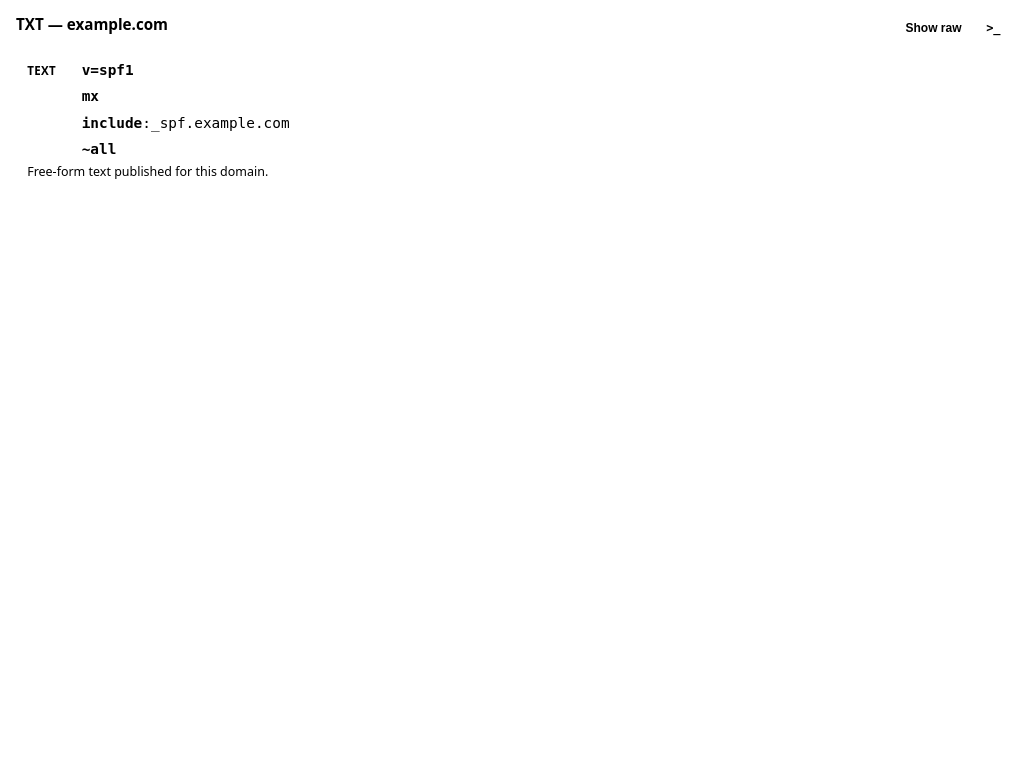
Scenario: RecordResultCard › opens SPF mechanism help when a mechanism label is clicked
Click the button with aria-label "Explain ~all" at point(99, 150), box [82,139,116,160]
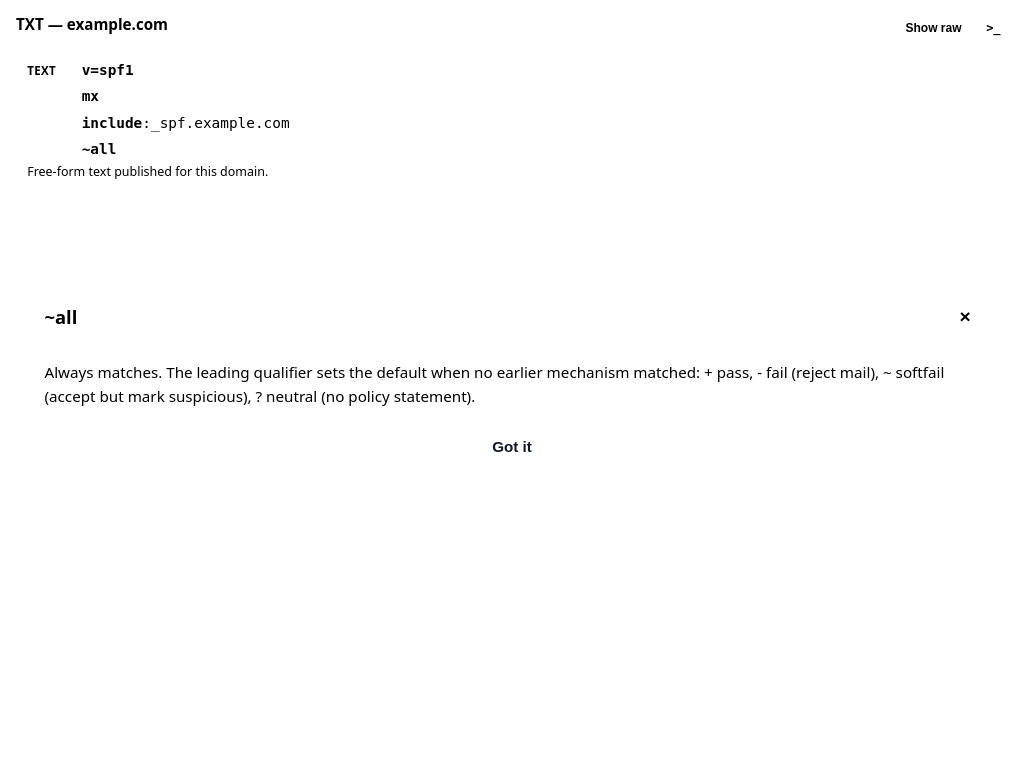
Expected: the dialog is shown, [20,284,1004,484]
Expected: the heading "~all" is shown, [44,304,77,328]
Expected: the text "softfail" is shown, [44,362,944,406]
